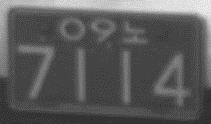0: (58, 15, 87, 41)
1: (66, 46, 97, 103), (109, 50, 141, 103)
4: (151, 51, 192, 107)
7: (17, 44, 55, 99)
9: (89, 16, 117, 43)
노: (121, 19, 147, 46)
